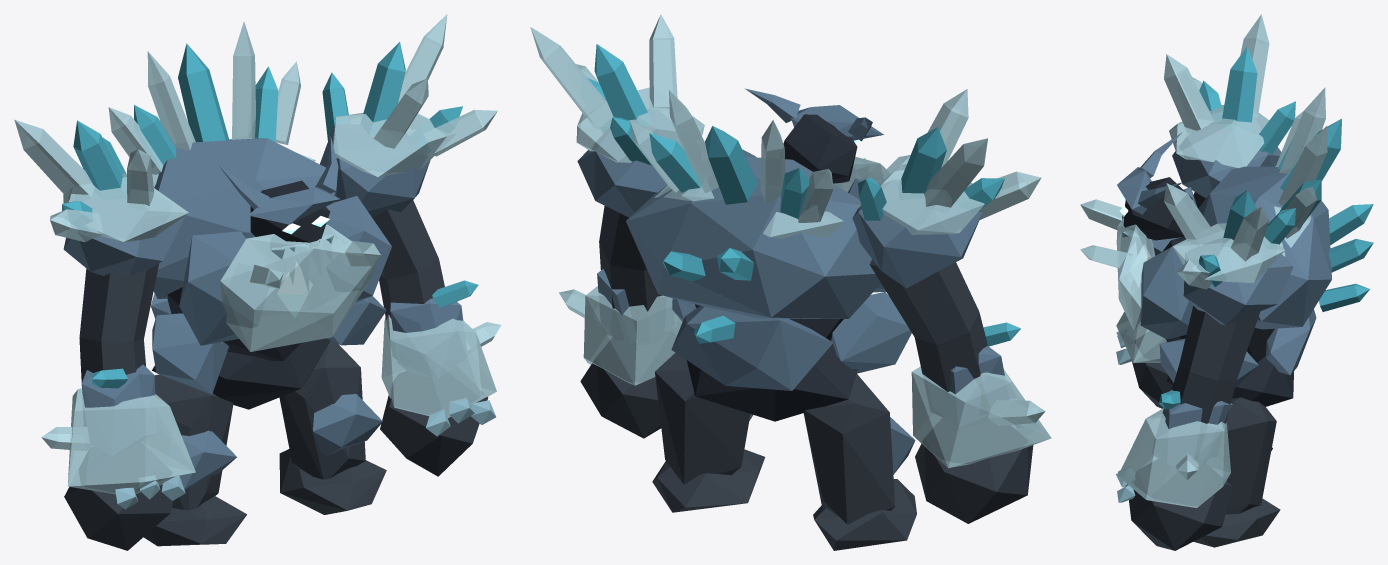
Rendered from FrostboundColossus.fbx.
3 renders of one model, left to right at view 1: azimuth 30°, elevation 25°; view 2: azimuth 150°, elevation 25°; view 3: azimuth 270°, elevation 25°, orthographic. The views are drawn at different scales.
Visible parts, largest first — view 1: Body, FrostChest, ShoulderL, ShoulderR, FrostArmR, LegL, FrostShoulderL, FrostShoulderR, FrostArmL, FrostBack, LegR, FistR (+15 smaller); view 2: Body, LegR, LegL, ShoulderR, FrostArmR, FistR, FrostShoulderR, BackSpikes, ArmR, FrostBack, FrostShoulderL, FrostArmL (+10 smaller); view 3: Body, ShoulderL, FrostArmL, FrostShoulderR, FistL, FrostShoulderL, LegL, ArmL, ShoulderR, BackSpikes, FrostBack, FrostChest (+9 smaller).
Part boxes in pixels (x1,y1,x2,y2): Body: (150,138,391,394); FrostChest: (220,224,381,351); ShoulderL: (320,124,467,378); ShoulderR: (63,191,185,455); FrostArmR: (41,388,195,494); LegL: (279,340,386,514); FrostShoulderL: (332,14,497,177); FrostShoulderR: (14,119,188,242); FrostArmL: (381,315,501,418); FrostBack: (108,21,315,187); LegR: (143,374,246,546); FistR: (64,443,172,550); Body: (626,149,911,390); LegR: (803,374,916,550); LegL: (652,353,765,512); ShoulderR: (852,180,1008,427); FrostArmR: (911,366,1051,468); FistR: (915,418,1033,523); FrostShoulderR: (855,89,1041,234); BackSpikes: (649,126,811,343); ArmR: (869,259,989,418); FrostBack: (630,90,843,238); FrostShoulderL: (530,14,704,162); FrostArmL: (559,286,682,385); Body: (1136,166,1331,388); ShoulderL: (1153,238,1293,469); FrostArmL: (1118,408,1230,507); FrostShoulderR: (1164,14,1269,168); FistL: (1129,459,1232,550); FrostShoulderL: (1164,183,1284,289); LegL: (1193,397,1280,547); ArmL: (1172,306,1260,458); ShoulderR: (1172,117,1281,198); BackSpikes: (1277,118,1373,311); FrostBack: (1274,87,1327,256); FrostChest: (1080,199,1155,331).
Bounding box in the file's own units: 16.29 × 14.89 × 9.87.
